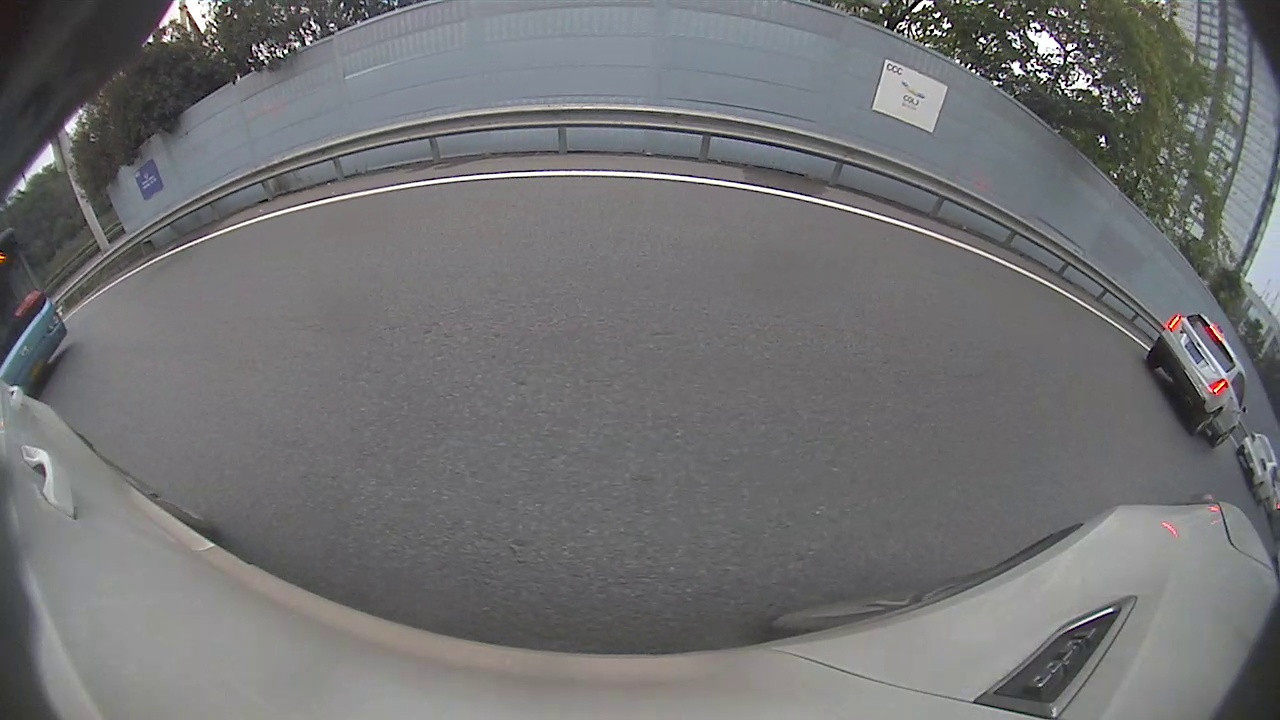bus: (1, 203, 82, 388)
car: (1147, 313, 1243, 447), (1235, 432, 1277, 503)
front: (1212, 428, 1235, 448)
rear: (1187, 411, 1221, 436)
